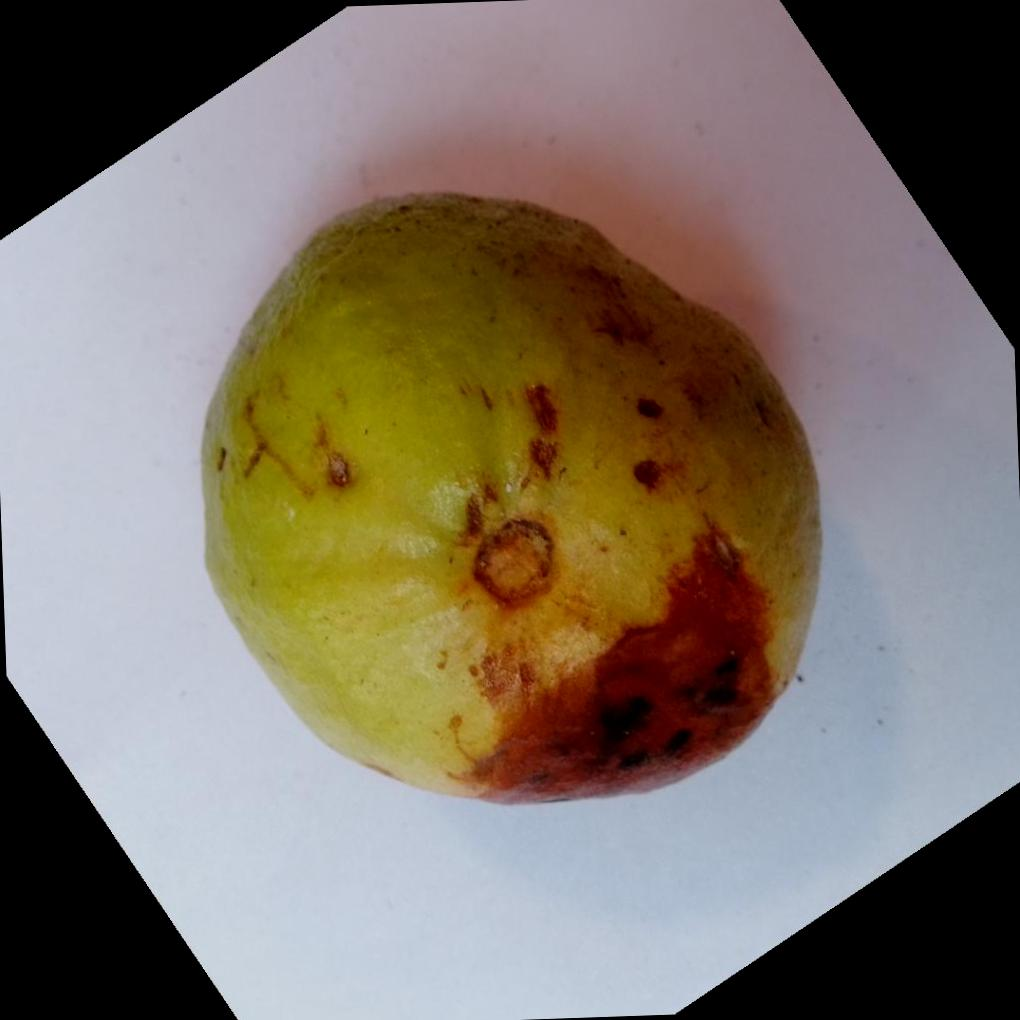FreshOrange: (198, 187, 823, 803)
